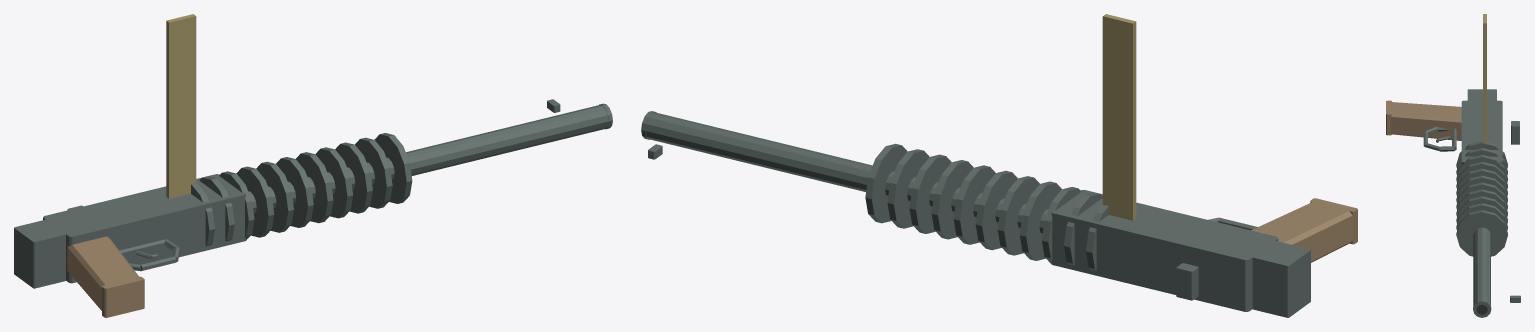
The model's file is weapon-hotchkiss.glb.
3 renders of one model, left to right at view 1: azimuth 30°, elevation 25°; view 2: azimuth 150°, elevation 25°; view 3: azimuth 270°, elevation 25°, orthographic. The views are drawn at different scales.
Parts seen in each view (by area): view 1: weapon-hotchkiss/full-depth-receiver, weapon-hotchkiss/round-barrel, weapon-hotchkiss/thin-side-feed-strip, weapon-hotchkiss/unstocked-rear-end, weapon-hotchkiss/distinct-eight-sided-pistol-grip, weapon-hotchkiss/cooling-fin-9, weapon-hotchkiss/cooling-fin-8, weapon-hotchkiss/cooling-fin-3, weapon-hotchkiss/cooling-fin-6, weapon-hotchkiss/cooling-fin-5, weapon-hotchkiss/cooling-fin-4, weapon-hotchkiss/cooling-fin-7 (+5 smaller); view 2: weapon-hotchkiss/full-depth-receiver, weapon-hotchkiss/round-barrel, weapon-hotchkiss/thin-side-feed-strip, weapon-hotchkiss/unstocked-rear-end, weapon-hotchkiss/distinct-eight-sided-pistol-grip, weapon-hotchkiss/cooling-fin-8, weapon-hotchkiss/cooling-fin-5, weapon-hotchkiss/cooling-fin-10, weapon-hotchkiss/cooling-fin-3, weapon-hotchkiss/cooling-fin-4, weapon-hotchkiss/cooling-fin-7, weapon-hotchkiss/cooling-fin-9 (+5 smaller); view 3: weapon-hotchkiss/distinct-eight-sided-pistol-grip, weapon-hotchkiss/full-depth-receiver, weapon-hotchkiss/cooling-fin-10, weapon-hotchkiss/round-barrel, weapon-hotchkiss/thin-side-feed-strip, weapon-hotchkiss/cooling-fin-4, weapon-hotchkiss/cooling-fin-8, weapon-hotchkiss/cooling-fin-5, weapon-hotchkiss/cooling-fin-7, weapon-hotchkiss/cooling-fin-9, weapon-hotchkiss/cooling-fin-2, weapon-hotchkiss/cooling-fin-3 (+7 smaller).
Boxes of the visible parts, x1,y1,x2,y2 form: weapon-hotchkiss/full-depth-receiver: (43, 174, 245, 283); weapon-hotchkiss/round-barrel: (248, 105, 608, 213); weapon-hotchkiss/thin-side-feed-strip: (166, 14, 196, 198); weapon-hotchkiss/unstocked-rear-end: (14, 219, 65, 288); weapon-hotchkiss/distinct-eight-sided-pistol-grip: (67, 236, 139, 310); weapon-hotchkiss/cooling-fin-9: (355, 137, 392, 208); weapon-hotchkiss/cooling-fin-8: (335, 142, 372, 213); weapon-hotchkiss/cooling-fin-3: (236, 166, 274, 237); weapon-hotchkiss/cooling-fin-6: (296, 152, 333, 223); weapon-hotchkiss/cooling-fin-5: (276, 157, 313, 227); weapon-hotchkiss/cooling-fin-4: (256, 161, 293, 232); weapon-hotchkiss/cooling-fin-7: (315, 147, 353, 218); weapon-hotchkiss/full-depth-receiver: (1051, 190, 1278, 311); weapon-hotchkiss/round-barrel: (646, 112, 1048, 234); weapon-hotchkiss/thin-side-feed-strip: (1102, 14, 1136, 220); weapon-hotchkiss/unstocked-rear-end: (1252, 241, 1310, 317); weapon-hotchkiss/distinct-eight-sided-pistol-grip: (1251, 200, 1352, 262); weapon-hotchkiss/cooling-fin-8: (909, 154, 951, 233); weapon-hotchkiss/cooling-fin-5: (975, 170, 1017, 250); weapon-hotchkiss/cooling-fin-10: (865, 143, 907, 223); weapon-hotchkiss/cooling-fin-3: (1019, 181, 1061, 260); weapon-hotchkiss/cooling-fin-4: (997, 176, 1039, 255); weapon-hotchkiss/cooling-fin-7: (931, 160, 973, 239); weapon-hotchkiss/cooling-fin-9: (887, 149, 929, 228); weapon-hotchkiss/distinct-eight-sided-pistol-grip: (1389, 102, 1461, 140); weapon-hotchkiss/full-depth-receiver: (1461, 100, 1502, 164); weapon-hotchkiss/cooling-fin-10: (1456, 210, 1507, 256); weapon-hotchkiss/round-barrel: (1473, 227, 1490, 306); weapon-hotchkiss/thin-side-feed-strip: (1483, 14, 1486, 143); weapon-hotchkiss/cooling-fin-4: (1456, 168, 1507, 195); weapon-hotchkiss/cooling-fin-8: (1456, 196, 1507, 223); weapon-hotchkiss/cooling-fin-5: (1456, 175, 1507, 202); weapon-hotchkiss/cooling-fin-7: (1456, 189, 1507, 216); weapon-hotchkiss/cooling-fin-9: (1456, 203, 1507, 230); weapon-hotchkiss/cooling-fin-2: (1456, 155, 1507, 182); weapon-hotchkiss/cooling-fin-3: (1456, 162, 1507, 188).
Bounding box in the file's own units: 0.7097 × 0.27 × 0.1985.
Materials: 4 (4 with a texture image).
